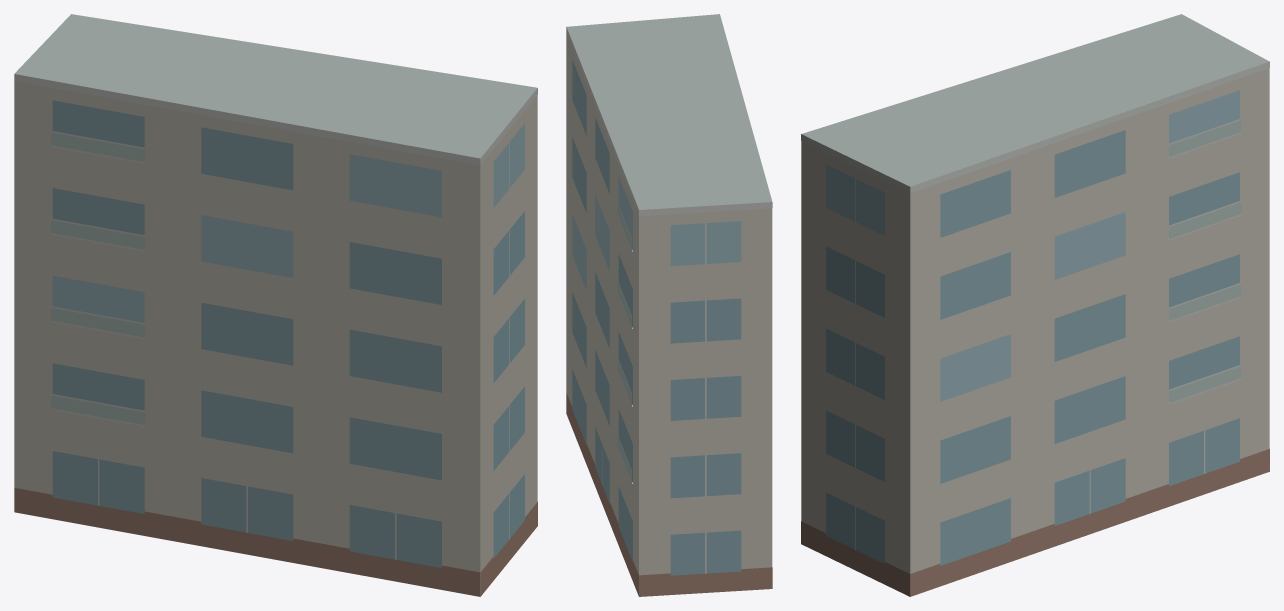
The model's file is survey-upis-32725031.glb.
3 renders of one model, left to right at view 1: azimuth 30°, elevation 25°; view 2: azimuth 150°, elevation 25°; view 3: azimuth 270°, elevation 25°, orthographic. The views are drawn at different scales.
Visible parts, largest first — view 1: survey-upis-32725031.tmp; view 2: survey-upis-32725031.tmp; view 3: survey-upis-32725031.tmp.
Boxes of the visible parts, x1=… form: survey-upis-32725031.tmp: x1=14, y1=14, x2=537, y2=596; survey-upis-32725031.tmp: x1=566, y1=14, x2=772, y2=596; survey-upis-32725031.tmp: x1=801, y1=14, x2=1269, y2=596.
Size of the model in its own units: 13.79 by 15.25 by 15.8.
